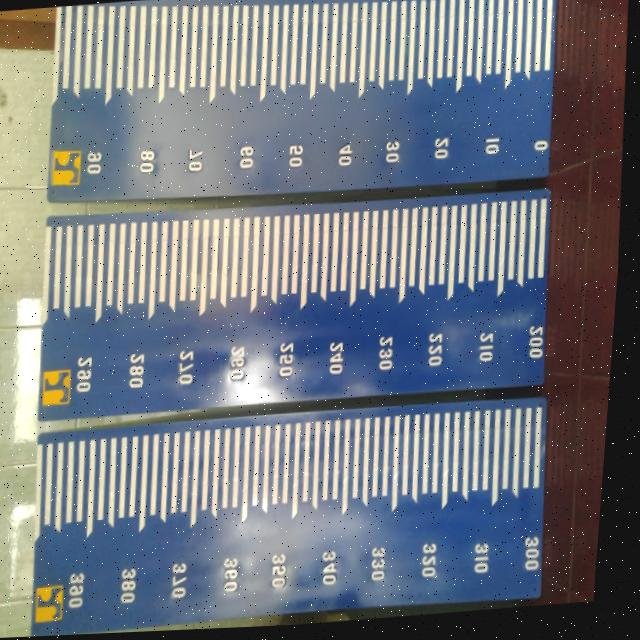water-meter: (21, 389, 558, 637), (28, 180, 559, 424), (39, 0, 560, 213)
